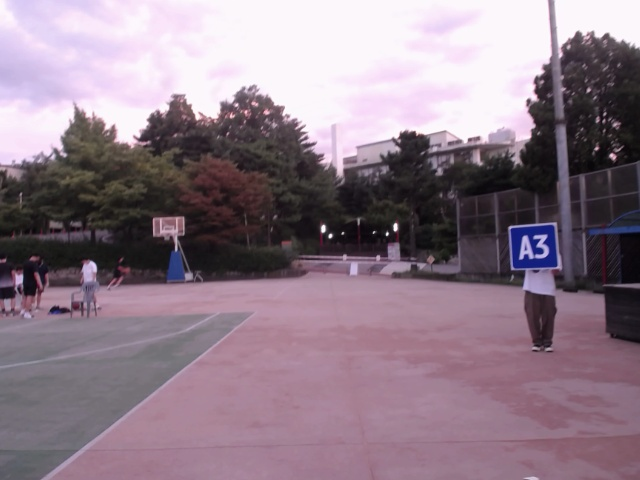delivery_a3: (509, 225, 560, 270)
